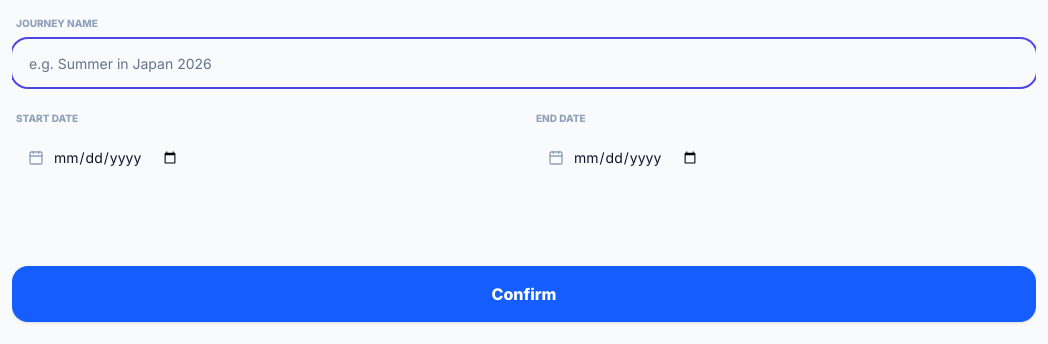
TripForm › should prevent selection of end date before start date
Type "Valid Journey" into the field labelled "Journey Name" at (524, 63), box [12,39,1036,87]
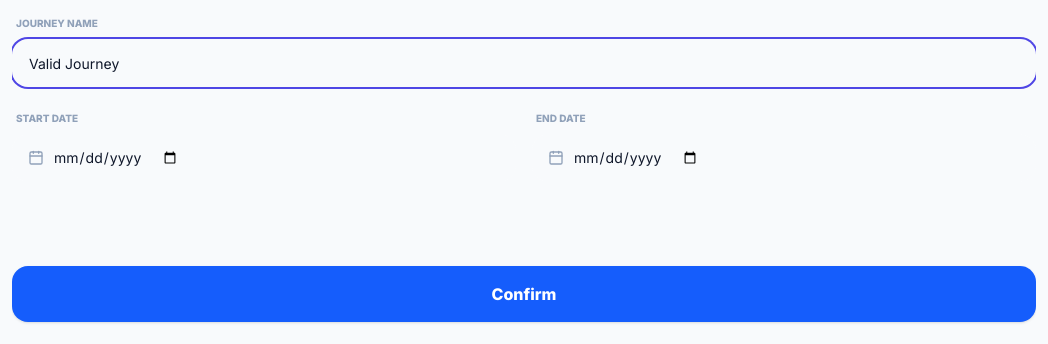
Type "2026-10-10" into the date field labelled "Start Date" at (264, 158), box [12,134,516,182]
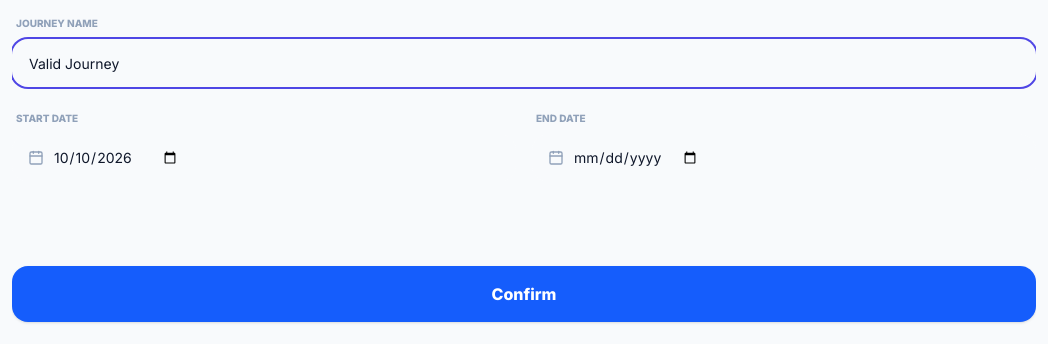
Type "2026-10-05" into the date field labelled "End Date" at (784, 158), box [532,134,1036,182]
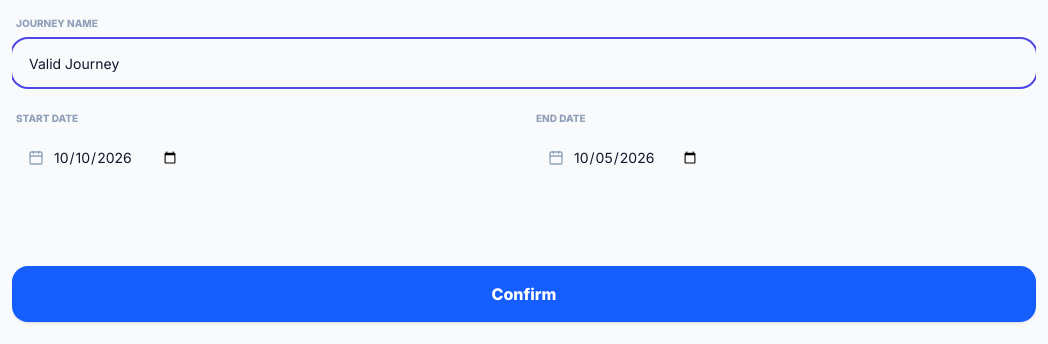
Submit the form named "trip-form"
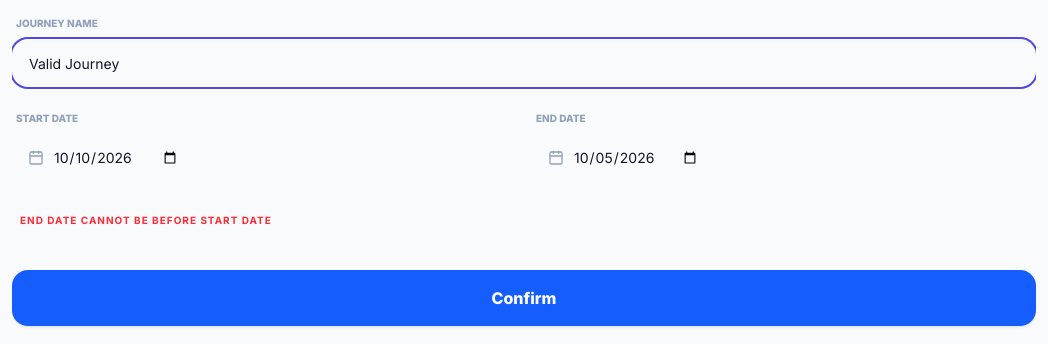
Result: the message with test id "error-message" shows "cannot be before start date" at [20,214,272,226]
